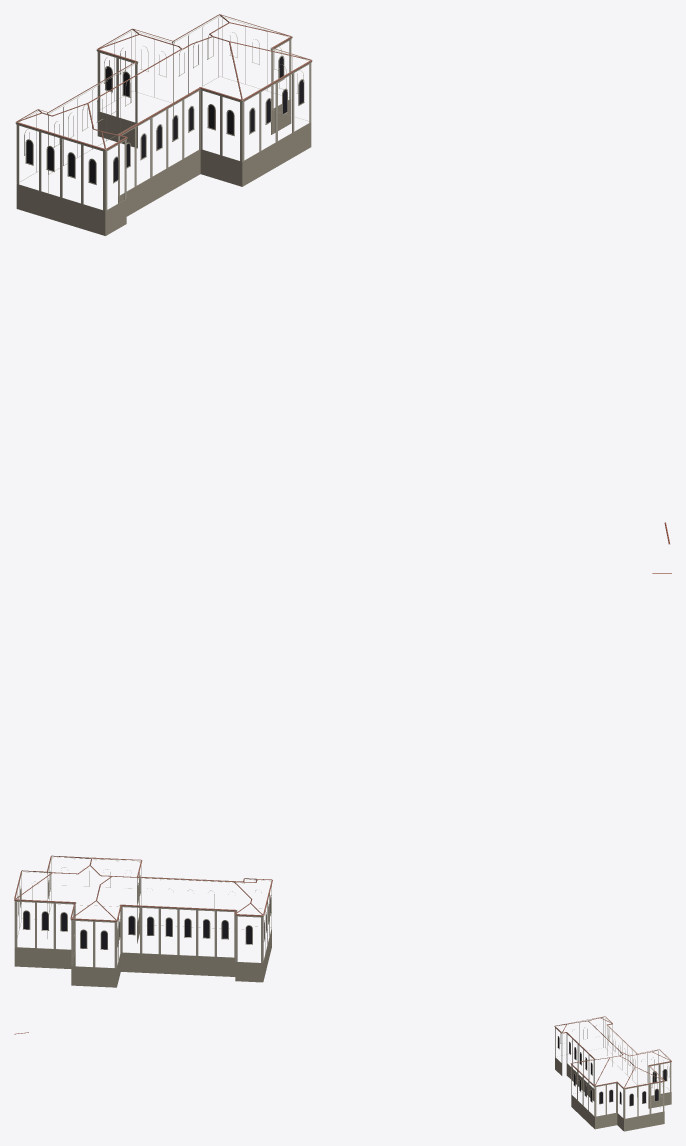
3 renders of one model, top to bottom at view 1: azimuth 30°, elevation 25°; view 2: azimuth 150°, elevation 25°; view 3: azimuth 270°, elevation 25°, orthographic. The views are drawn at different scales.
Parts seen in each view (by area): view 1: detail; view 2: detail; view 3: detail.
Part boxes in pixels (x1=…): detail: x1=15, y1=14, x2=669, y2=544; detail: x1=14, y1=573, x2=671, y2=987; detail: x1=14, y1=1016, x2=671, y2=1131.
Bounding box in the file's own units: 71.46 × 25.71 × 276.
